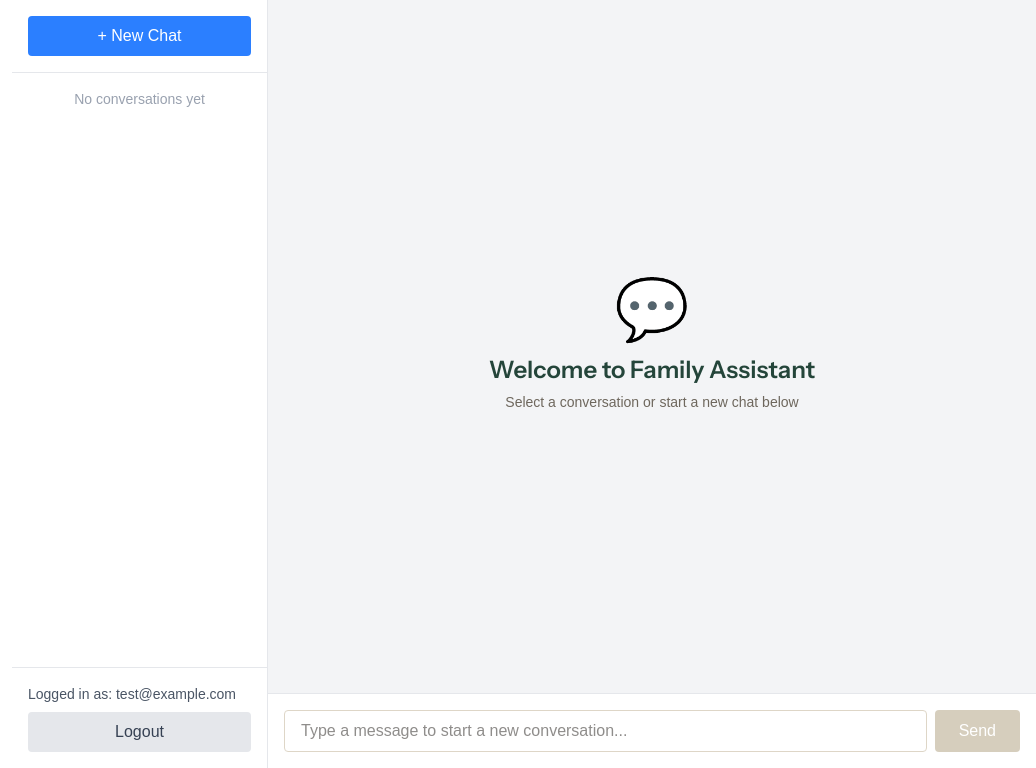
Test: ConversationsChat › New chat flow › creates new conversation when sending first message
The width and height of the screenshot is (1036, 768).
Type "Hello" into the field with placeholder "Type a message to start a new conversation..." at point(605, 731), box [284,710,927,752]
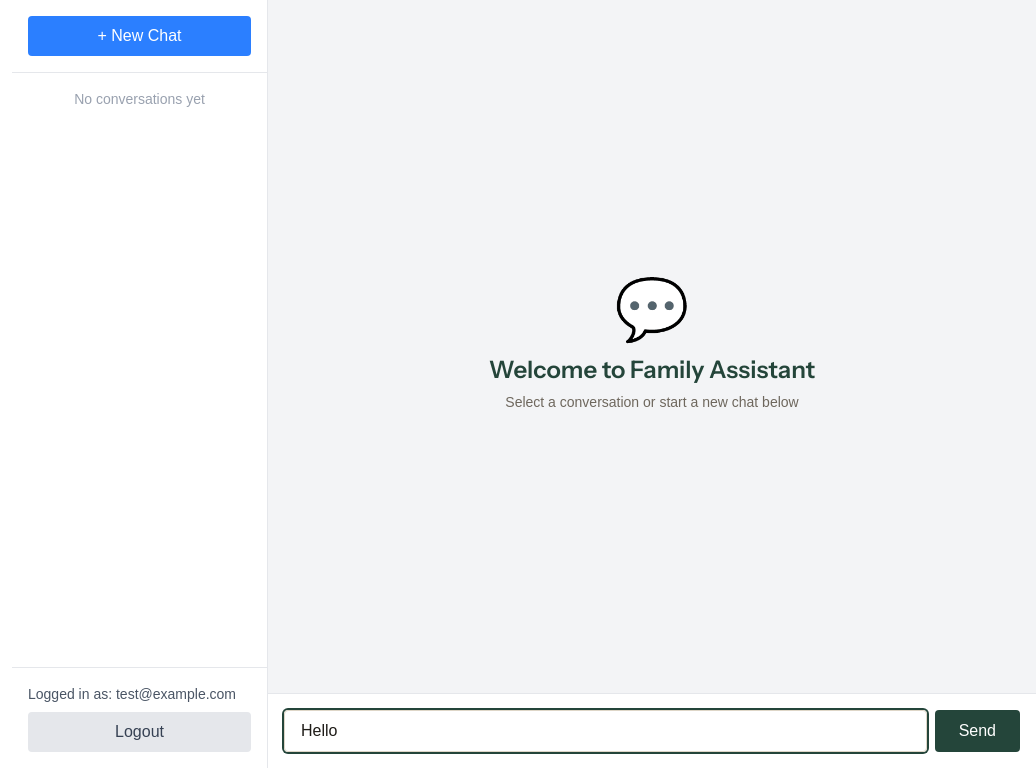
Click the button "Send" at point(977, 731), box [935,710,1020,752]
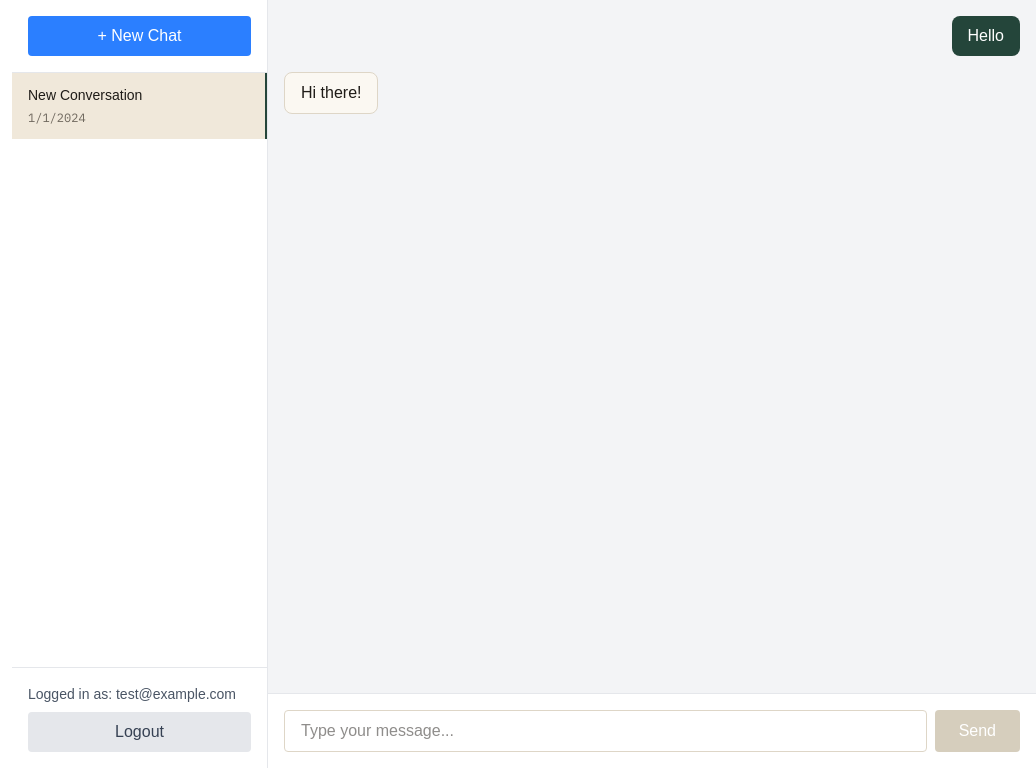
Expected: the text "Hello" is shown, [968,24,1004,48]
Expected: the text "Hi there!" is shown, [301,81,362,105]
Expected: the text "New Conversation" is shown, [28,87,142,103]
